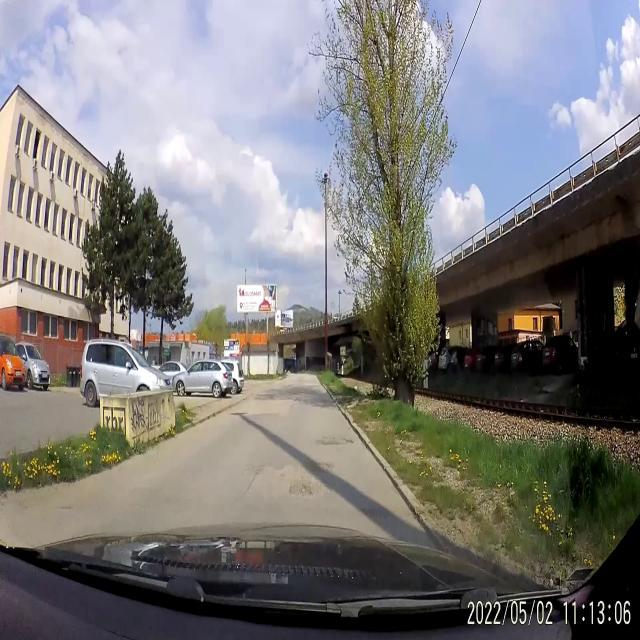Pothole: (280, 471, 316, 504), (316, 434, 360, 457), (308, 449, 338, 478)
